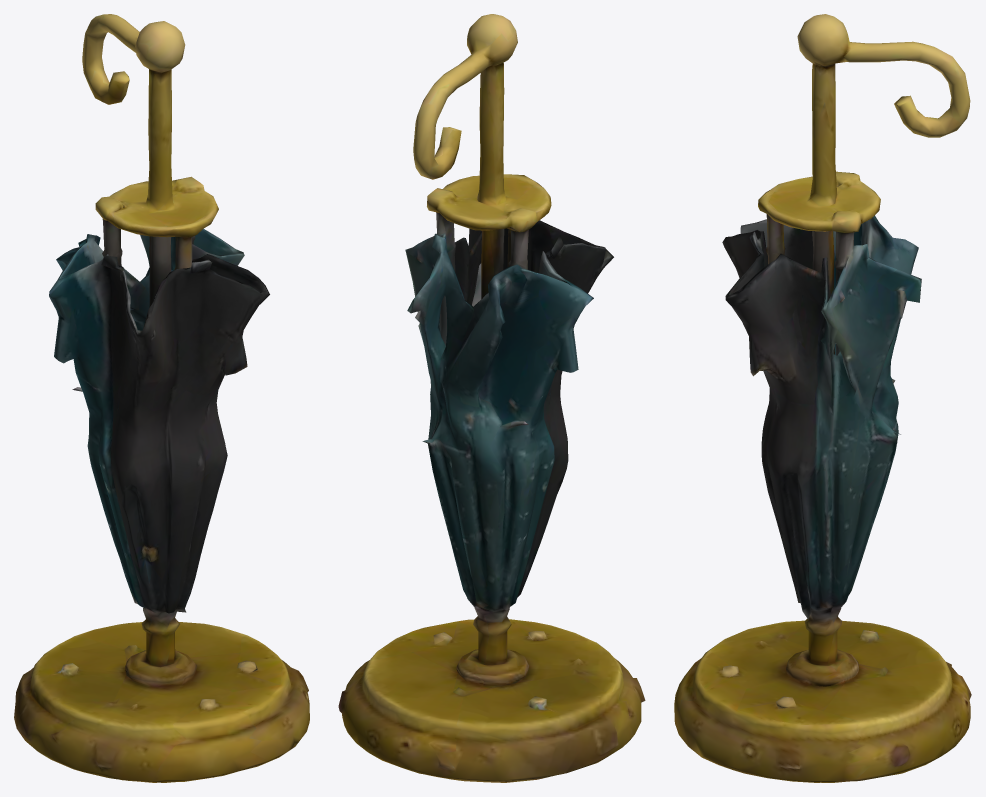
The model's file is deco_umbrella.glb.
The picture shows the model from 3 angles, left to right: view 1: azimuth 30°, elevation 25°; view 2: azimuth 150°, elevation 25°; view 3: azimuth 270°, elevation 25°; orthographic projection.
Parts seen in each view (by area): view 1: tripo_node_c6e645c7-0f66-49be-8957-b43269c86653; view 2: tripo_node_c6e645c7-0f66-49be-8957-b43269c86653; view 3: tripo_node_c6e645c7-0f66-49be-8957-b43269c86653.
Boxes of the visible parts, <box> form: tripo_node_c6e645c7-0f66-49be-8957-b43269c86653: <box>14,14,309,782</box>; tripo_node_c6e645c7-0f66-49be-8957-b43269c86653: <box>338,14,645,782</box>; tripo_node_c6e645c7-0f66-49be-8957-b43269c86653: <box>674,14,971,782</box>.
Size of the model in its own units: 0.3811 by 0.9996 by 0.3754.
1 material, 1 textured.
